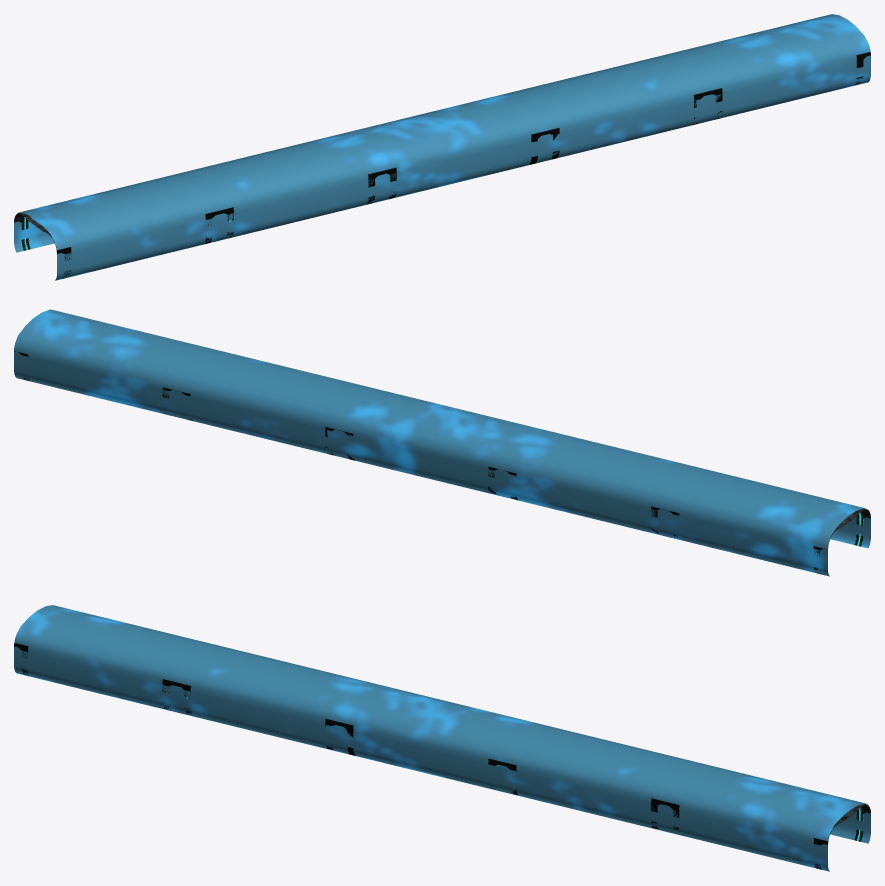
Rendered from RoadDome (1).fbx.
3 views of the same model, one above another, from view 1: azimuth 30°, elevation 25°; view 2: azimuth 150°, elevation 25°; view 3: azimuth 330°, elevation 25° (orthographic).
Parts seen in each view (by area): view 1: model_129.002; view 2: model_129.002; view 3: model_129.002.
Boxes of the visible parts, bbox=[...] form: model_129.002: bbox=[14, 14, 870, 280]; model_129.002: bbox=[14, 309, 870, 576]; model_129.002: bbox=[14, 605, 870, 871].
Bounding box in the file's own units: 67709 × 3771 × 6217.
Materials: 1 (1 with a texture image).
